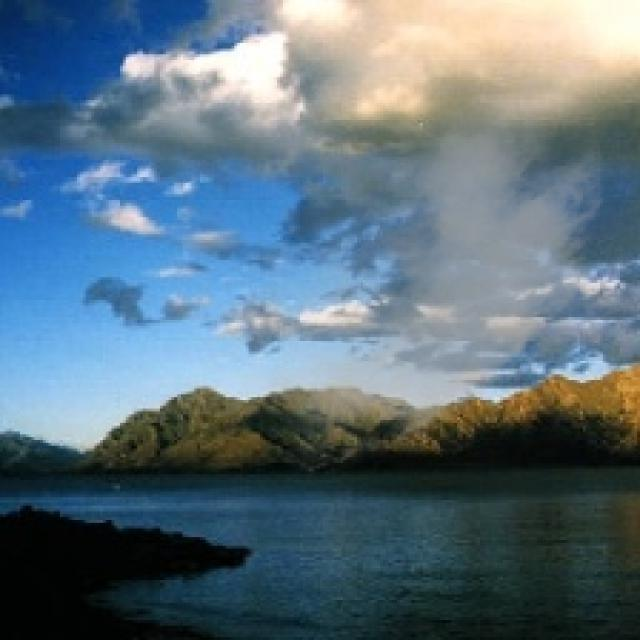Smoke: (205, 86, 620, 480)
